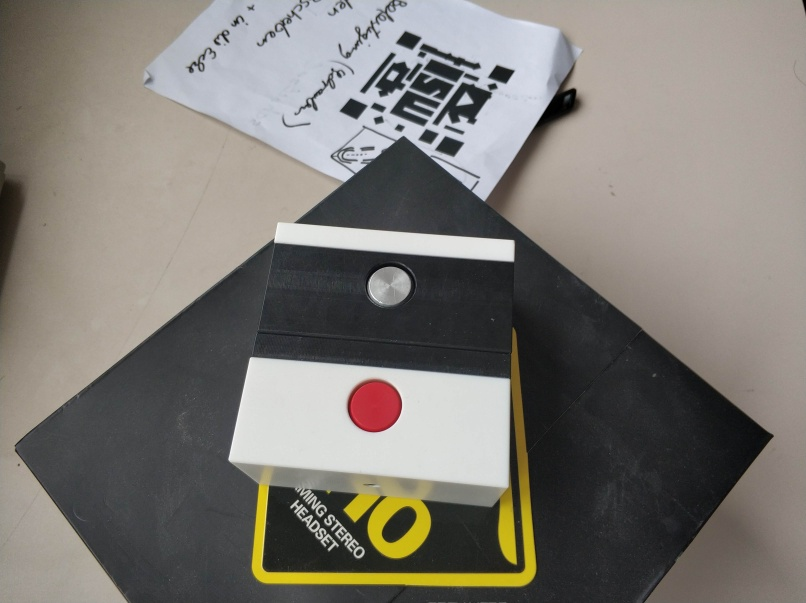black+white+red: (226, 333, 514, 511)
white+black+silver: (251, 219, 519, 359)
